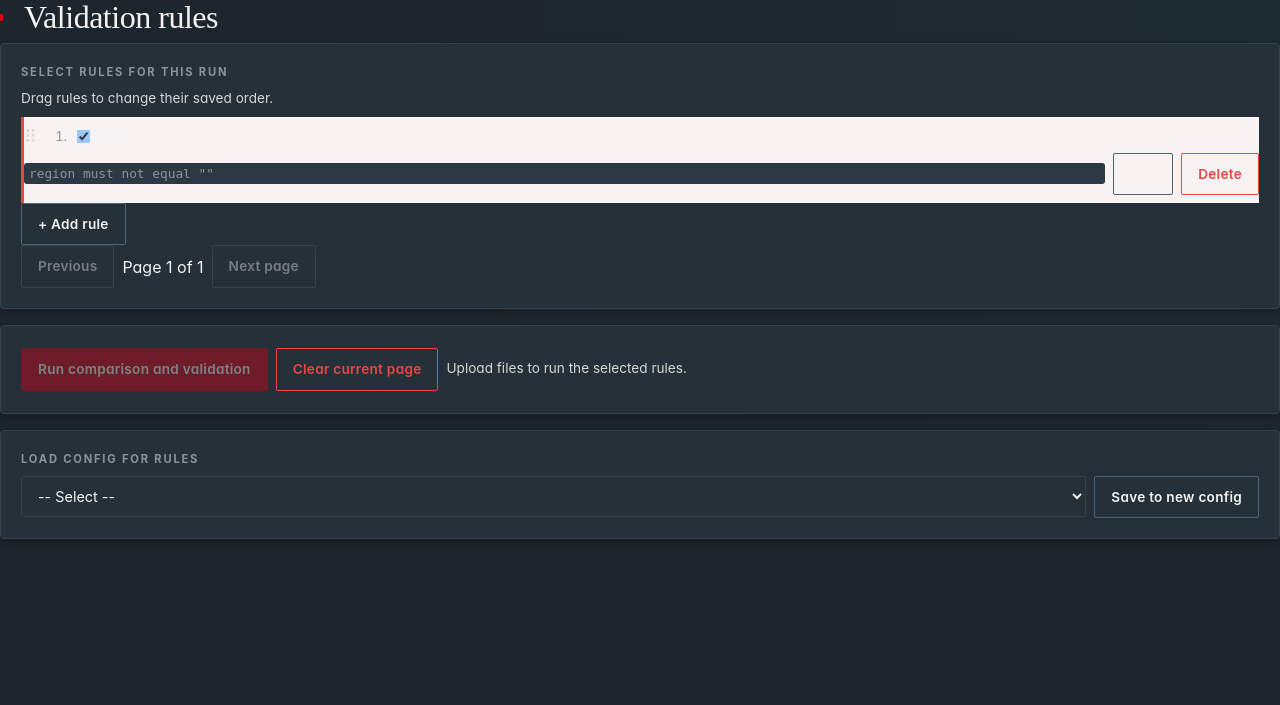
Test: RulesPage › checks every rule after a saved config is loaded
The image size is (1280, 705).
Check: the text "R001 — Region present⚠" is shown, box [73,125,295,149]
Select "v2 (v1)" in the dropdown with id "rules-config-select" at {"x": 554, "y": 497}, box [21,476,1086,517]
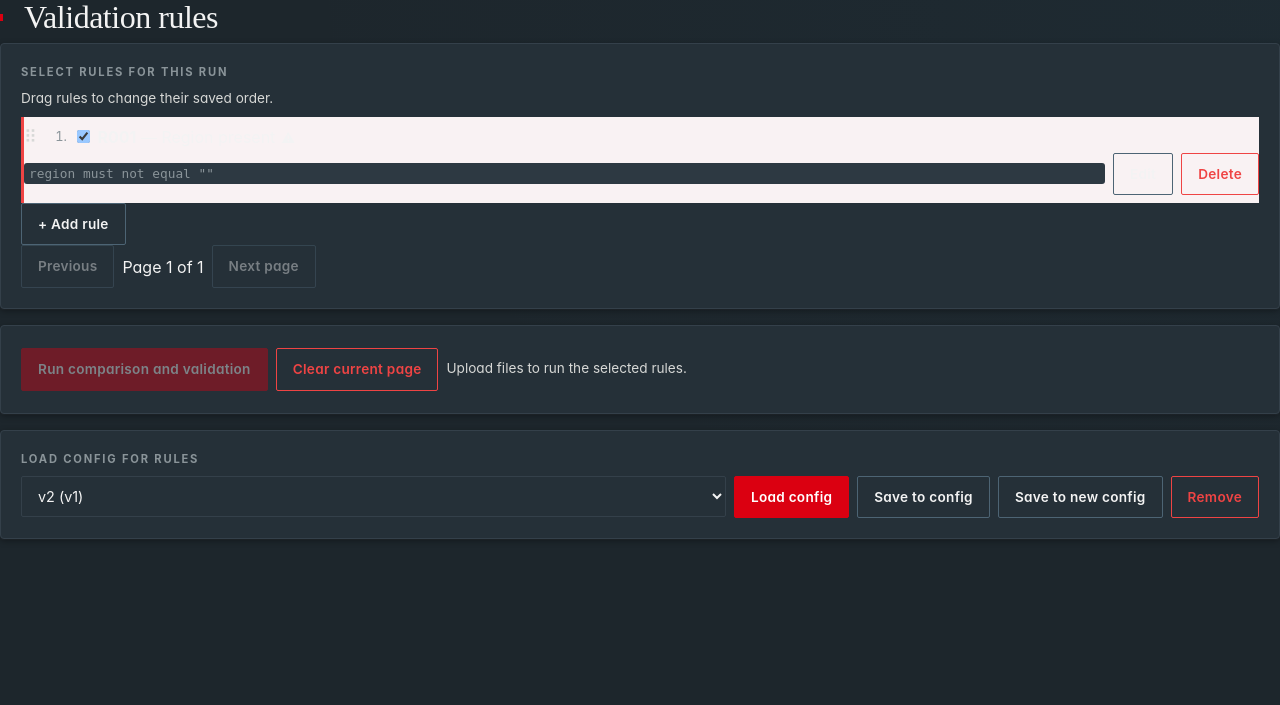
Click the button "Load config" at {"x": 792, "y": 497}, box [734,476,849,518]
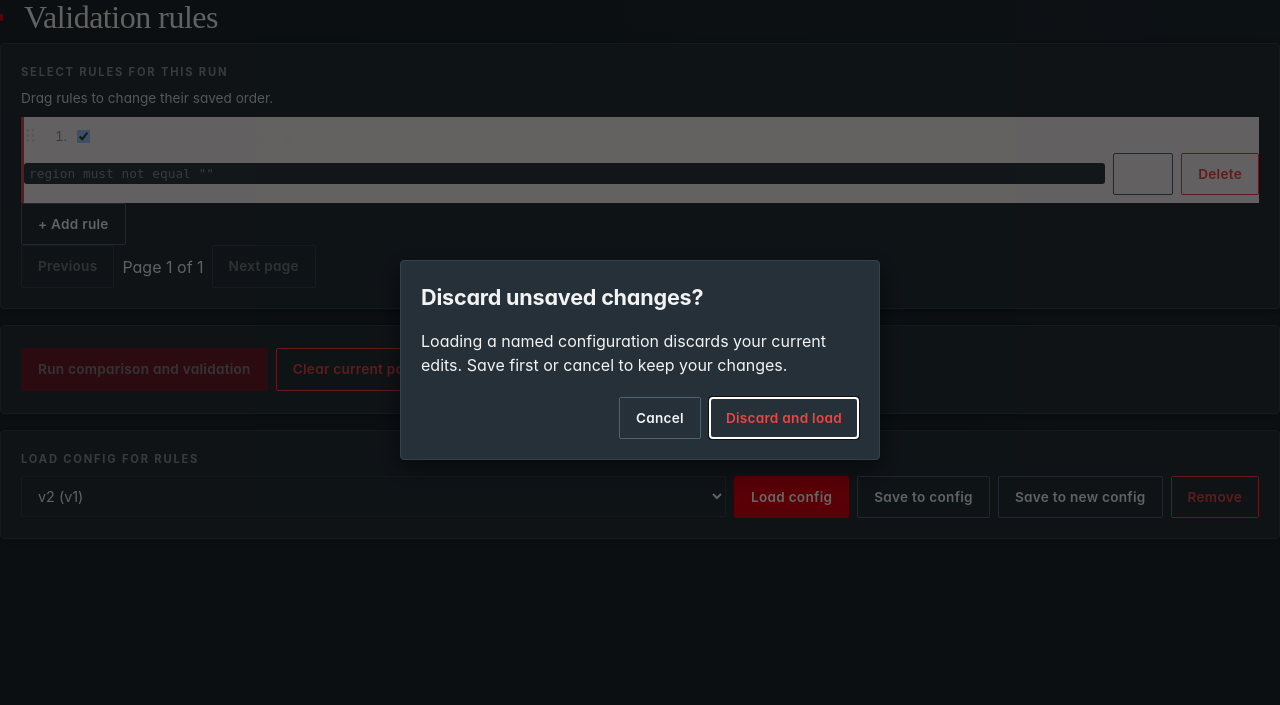
Click the button "Discard and load" at {"x": 784, "y": 418}, box [709,397,859,439]
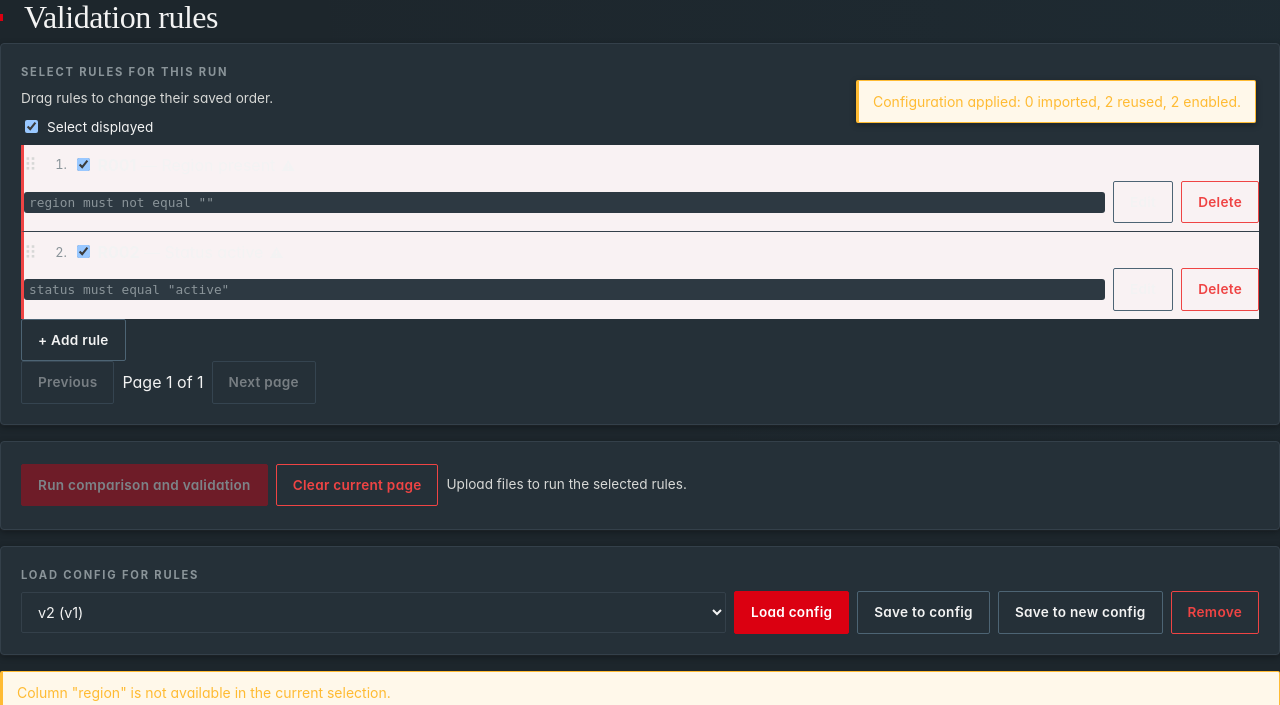
Check: the text "R002 — Status active⚠" is shown, box [73,240,283,264]
Check: the text "Configuration applied: 0 imported, 2 reused, 2 enabled." is shown, box [856,80,1256,123]
